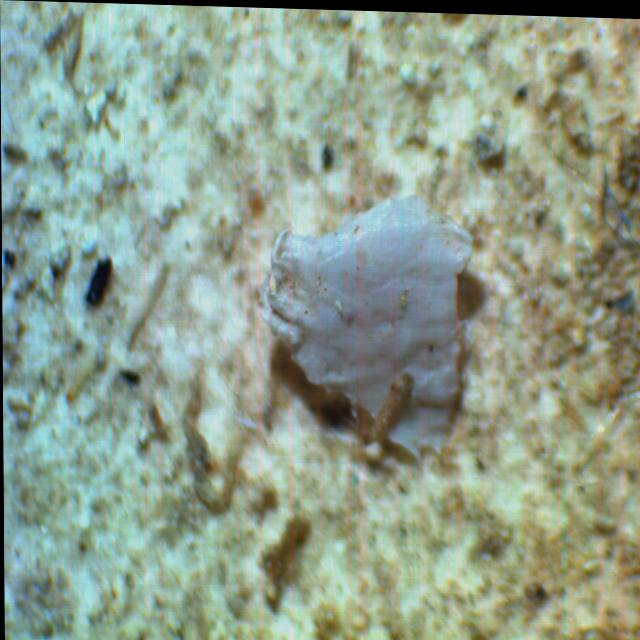microplastic: (252, 189, 475, 454)
